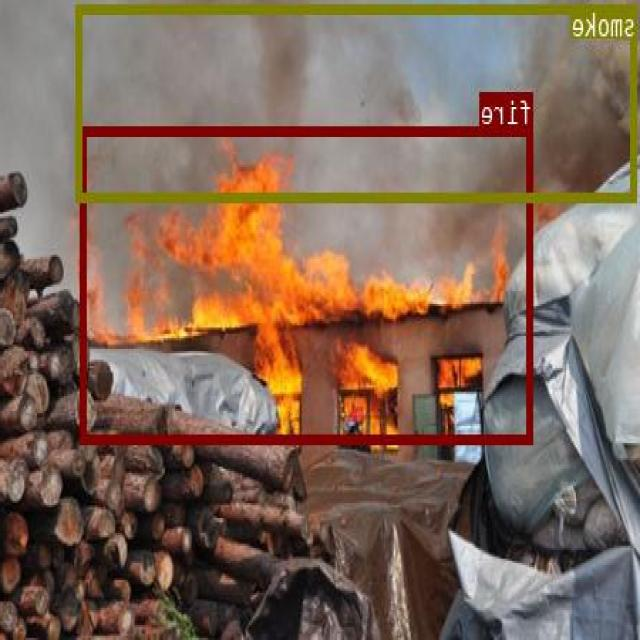fire: (81, 125, 534, 443)
smoke: (77, 3, 638, 200)
